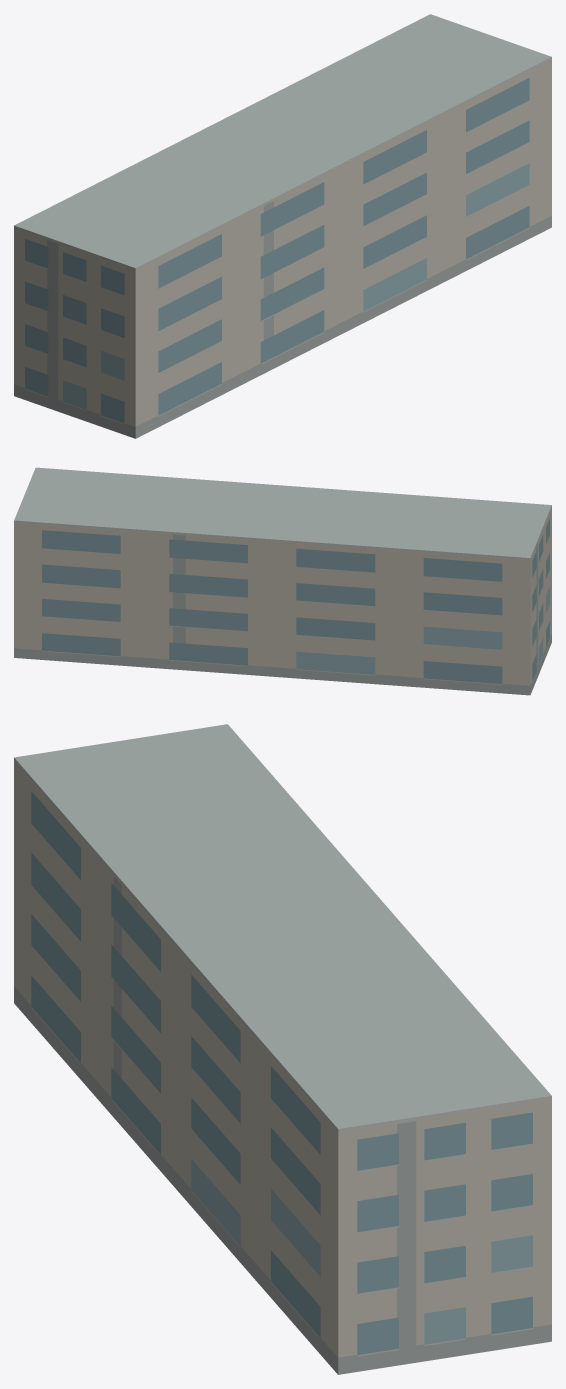
The model's file is residential-00b4210c-1180-4feb-a0b7-605b5718acca.glb.
3 renders of one model, top to bottom at view 1: azimuth 30°, elevation 25°; view 2: azimuth 150°, elevation 25°; view 3: azimuth 270°, elevation 25°, orthographic. The views are drawn at different scales.
Parts seen in each view (by area): view 1: residential-00b4210c-1180-4feb-a0b7-605b5718acca.tmp; view 2: residential-00b4210c-1180-4feb-a0b7-605b5718acca.tmp; view 3: residential-00b4210c-1180-4feb-a0b7-605b5718acca.tmp.
Part boxes in pixels (<box>): residential-00b4210c-1180-4feb-a0b7-605b5718acca.tmp: <box>14,14,551,438</box>; residential-00b4210c-1180-4feb-a0b7-605b5718acca.tmp: <box>14,467,551,695</box>; residential-00b4210c-1180-4feb-a0b7-605b5718acca.tmp: <box>14,724,551,1374</box>.
Size of the model in its own units: 49.48 by 14 by 27.77.
